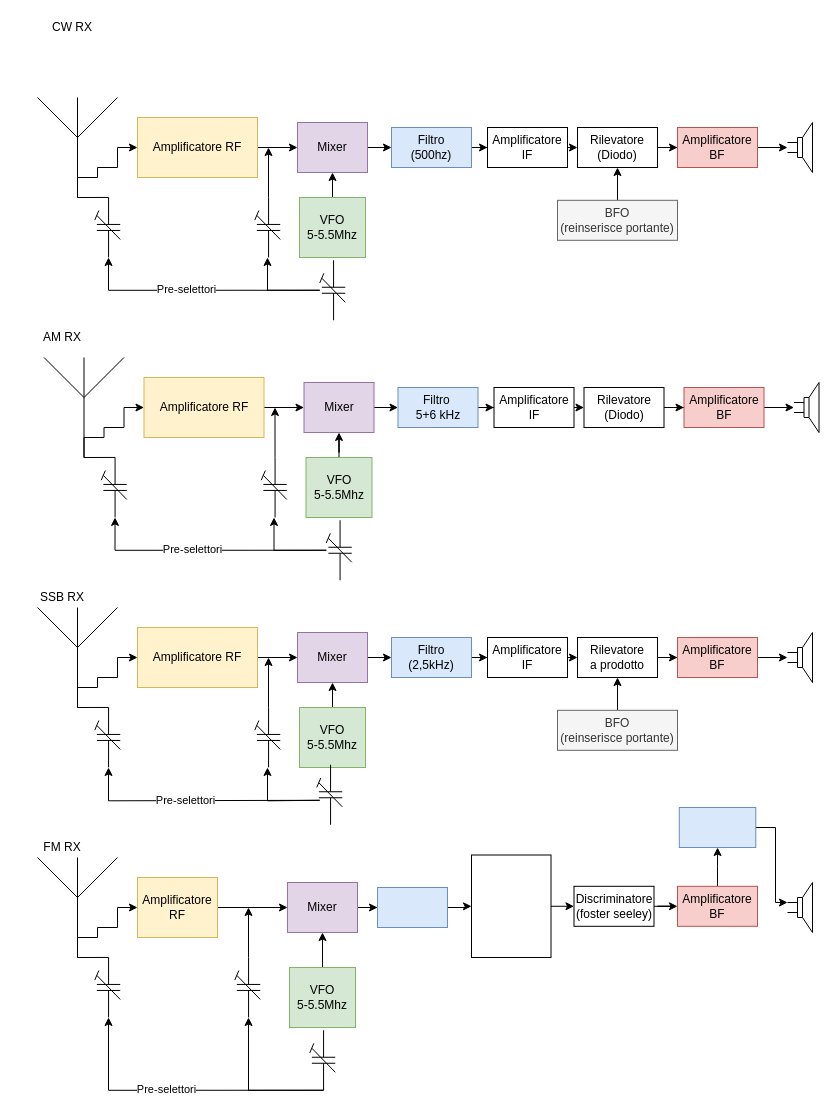
Image size: 836x1116. Some labels were removed from this diagram. The centre of each missing label's shape, as x and y in pixels:
"Amplificatore Limitatore (limita ampiezza per rimuovere disturbi)" goes at (x=510, y=906).
"Filtro (10-20kHz)" goes at (x=412, y=907).
"Filtro de-enfasi" goes at (x=717, y=827).
